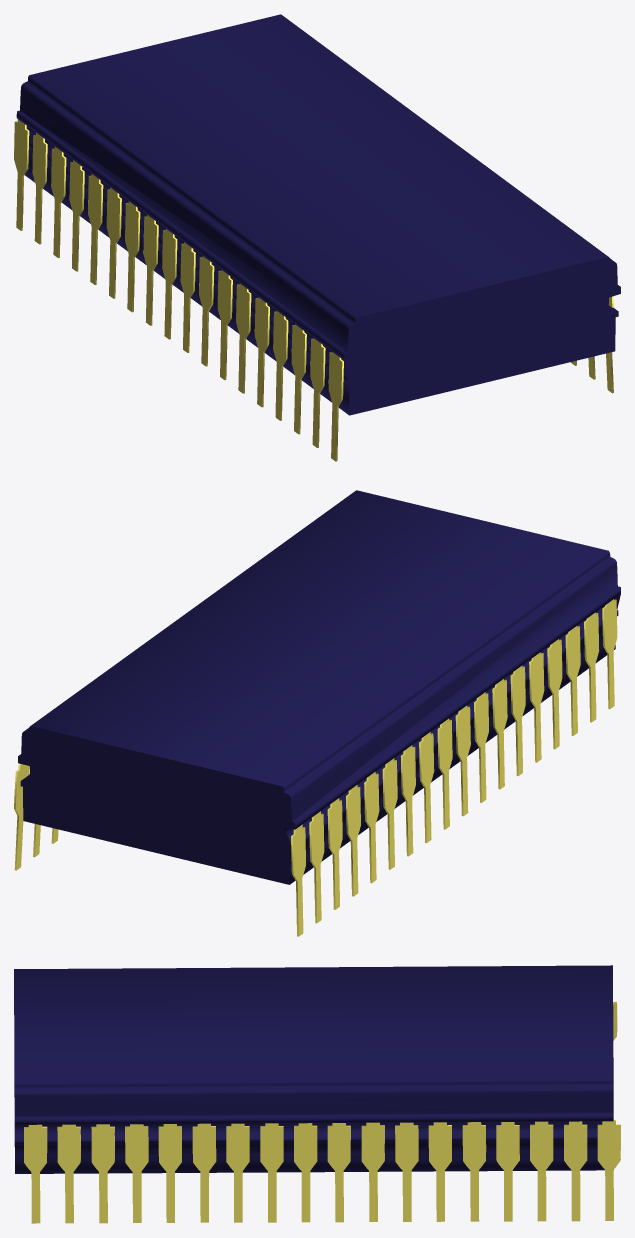
Rendered from 1959_microchip.fbx.
3 views of the same model, one above another, from view 1: azimuth 30°, elevation 25°; view 2: azimuth 150°, elevation 25°; view 3: azimuth 270°, elevation 25° (orthographic). The views are drawn at different scales.
Visible parts, largest first — view 1: 1959_microchip; view 2: 1959_microchip; view 3: 1959_microchip.
Boxes of the visible parts, left/top/right/bottom form: 1959_microchip: left=14, top=14, right=620, bottom=461; 1959_microchip: left=14, top=490, right=620, bottom=936; 1959_microchip: left=14, top=965, right=620, bottom=1223.
Bounding box in the file's own units: 13.78 × 7.04 × 28.01.
